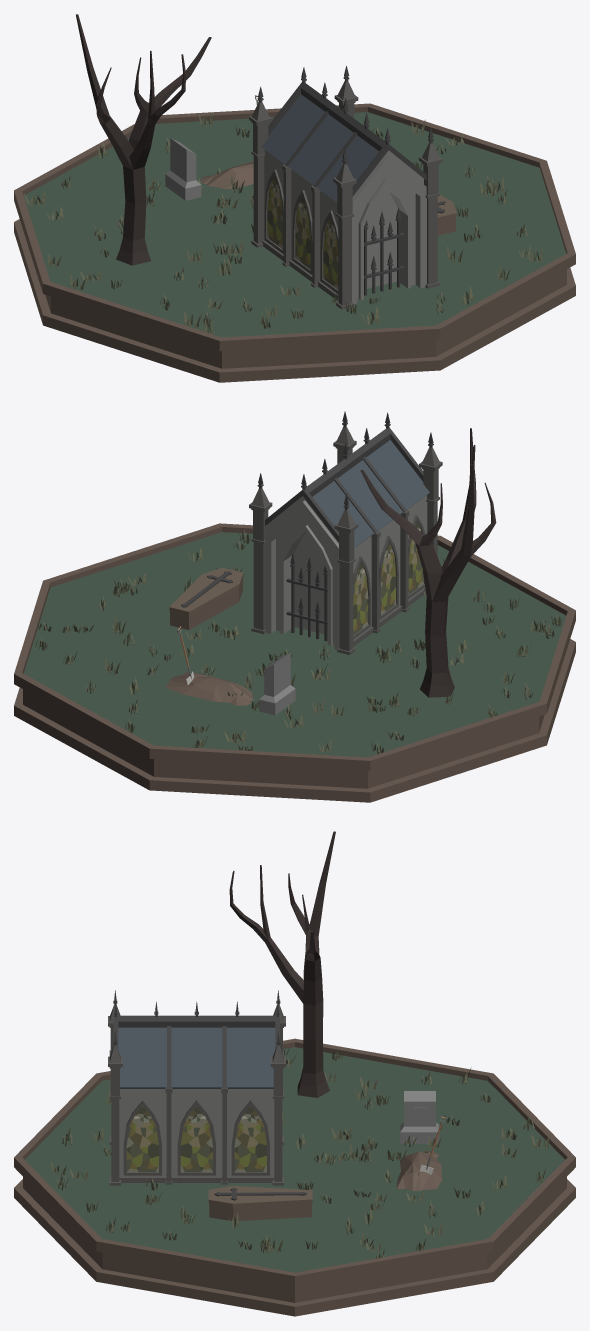
Rendered from Demo_Scene.fbx.
3 renders of one model, top to bottom at view 1: azimuth 30°, elevation 25°; view 2: azimuth 150°, elevation 25°; view 3: azimuth 270°, elevation 25°, orthographic. The views are drawn at different scales.
Parts seen in each view (by area): view 1: Cylinder, Crypt_3, Dead_Tree_1, Grass, Headstone_3, Ground, Coffin_1; view 2: Cylinder, Crypt_3, Dead_Tree_1, Grass, Coffin_1, Ground, Headstone_3; view 3: Cylinder, Crypt_3, Dead_Tree_1, Grass, Coffin_1, Headstone_3, Ground.
Part boxes in pixels (left/top/right/bottom): Cylinder: left=14, top=103, right=575, bottom=382; Crypt_3: left=249, top=66, right=442, bottom=309; Dead_Tree_1: left=76, top=14, right=211, bottom=265; Grass: left=24, top=112, right=542, bottom=334; Headstone_3: left=165, top=138, right=201, bottom=200; Ground: left=200, top=161, right=253, bottom=188; Coffin_1: left=437, top=195, right=456, bottom=235; Cylinder: left=14, top=523, right=575, bottom=802; Crypt_3: left=249, top=411, right=442, bottom=654; Dead_Tree_1: left=360, top=428, right=496, bottom=697; Grass: left=35, top=530, right=561, bottom=753; Coffin_1: left=169, top=567, right=243, bottom=629; Ground: left=165, top=672, right=253, bottom=705; Headstone_3: left=259, top=652, right=295, bottom=715; Cylinder: left=14, top=1038, right=575, bottom=1316; Crypt_3: left=108, top=990, right=285, bottom=1185; Dead_Tree_1: left=229, top=831, right=335, bottom=1097; Grass: left=51, top=1048, right=549, bottom=1258; Coffin_1: left=208, top=1186, right=312, bottom=1221; Headstone_3: left=400, top=1091, right=439, bottom=1143; Ground: left=396, top=1151, right=442, bottom=1191.
Size of the model in its own units: 790 by 423 by 790.
Materials: 1 (1 with a texture image).
